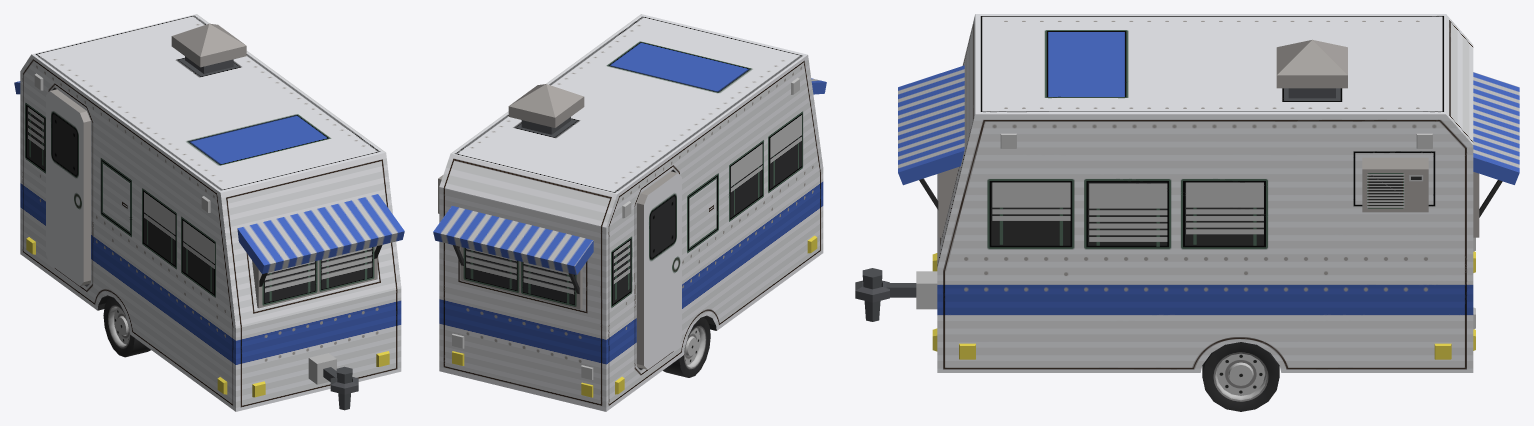
File: van.glb
3 renders of one model, left to right at view 1: azimuth 30°, elevation 25°; view 2: azimuth 150°, elevation 25°; view 3: azimuth 270°, elevation 25°, orthographic. The views are drawn at different scales.
Parts seen in each view (by area): view 1: Caravan, Door, Wheel__b1, Hitch_element; view 2: Caravan, Door, Wheel__b1; view 3: Caravan, Wheel__b2, Hitch_element.
Part boxes in pixels (bbox=[...]): Caravan: bbox=[14, 14, 404, 411]; Door: bbox=[46, 89, 90, 285]; Wheel__b1: bbox=[103, 297, 150, 357]; Hitch_element: bbox=[336, 366, 352, 410]; Caravan: bbox=[433, 14, 826, 411]; Door: bbox=[636, 171, 681, 369]; Wheel__b1: bbox=[663, 317, 710, 377]; Caravan: bbox=[855, 14, 1519, 372]; Wheel__b2: bbox=[1202, 342, 1279, 411]; Hitch_element: bbox=[862, 268, 882, 321].
Size of the model in its own units: 115 by 163 by 280.
Materials: 1 (1 with a texture image).
